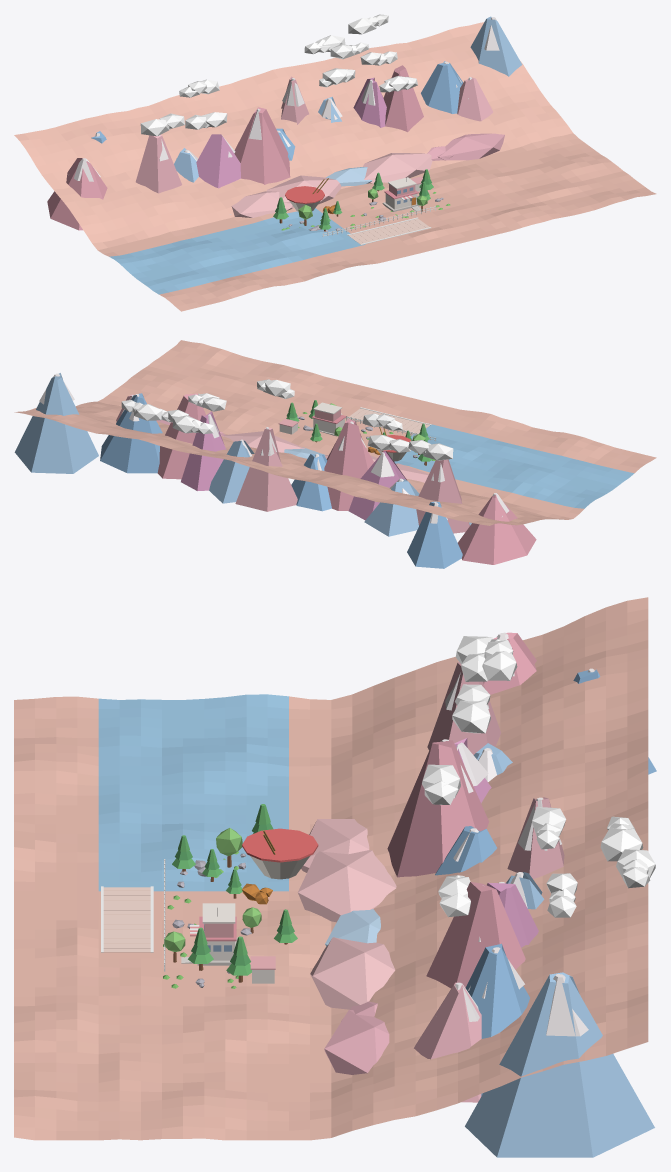
The model's file is stage.glb.
3 renders of one model, top to bottom at view 1: azimuth 30°, elevation 25°; view 2: azimuth 150°, elevation 25°; view 3: azimuth 270°, elevation 25°, orthographic. The views are drawn at different scales.
Visible parts, largest first — view 1: terrain, mtn.005, mtn.004, mtn.002, mtn, mtn.013, hill.005, mtn.011, mtn.010, hill.007, mtn.012, hill.002 (+7 smaller); view 2: terrain, mtn.013, mtn, mtn.007, mtn.011, mtn.005, mtn.001, mtn.009, mtn.003, mtn.002, mtn.010, mtn.008 (+8 smaller); view 3: terrain, mtn.013, mtn.005, mtn.010, hill.003, hill.005, mtn.011, plaza, mtn.012, hill.007, mtn.002, rim (+10 smaller).
Boxes of the visible parts, x1,y1,x2,y2 form: terrain: (14, 22, 656, 311); mtn.005: (234, 107, 290, 184); mtn.004: (196, 134, 240, 188); mtn.002: (135, 134, 181, 193); mtn: (47, 158, 107, 230); mtn.013: (470, 16, 522, 76); hill.005: (363, 153, 432, 183); mtn.011: (421, 61, 463, 113); mtn.010: (383, 65, 423, 132); hill.007: (437, 133, 504, 160); mtn.012: (457, 77, 492, 121); hill.002: (231, 191, 293, 217); terrain: (14, 340, 656, 525); mtn.013: (14, 373, 98, 473); mtn: (458, 493, 536, 564); mtn.007: (235, 427, 297, 511); mtn.011: (100, 393, 162, 473); mtn.005: (324, 419, 373, 510); mtn.001: (407, 501, 462, 568); mtn.009: (181, 411, 226, 491); mtn.003: (364, 479, 419, 536); mtn.002: (416, 459, 469, 533); mtn.010: (157, 393, 205, 479); mtn.008: (209, 440, 254, 503); terrain: (14, 597, 648, 1140); mtn.013: (465, 972, 654, 1157); mtn.005: (387, 740, 488, 877); mtn.010: (426, 882, 525, 988); hill.003: (298, 850, 396, 922); hill.005: (310, 937, 395, 1009); mtn.011: (465, 943, 529, 1095); plaza: (103, 887, 150, 952); mtn.012: (414, 982, 481, 1102); hill.007: (324, 1010, 389, 1074); mtn.002: (427, 662, 500, 754); rim: (242, 828, 318, 862).
Bounding box in the file's own units: 94.8 × 21.28 × 56.76.
